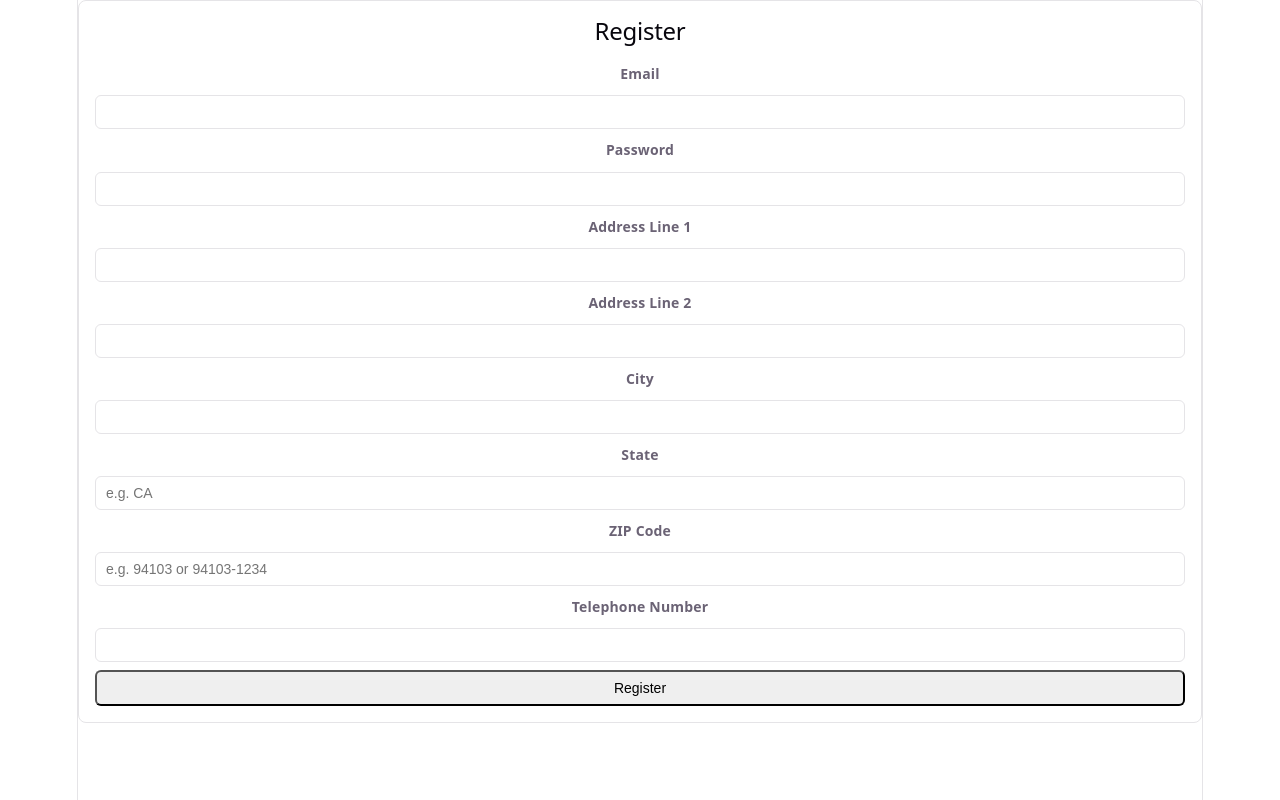
Scenario: RegisterForm › submits the payload and shows a success message
Type "a@b.com" into the field labelled "Email". click: point(640, 112)
box: [95, 95, 1185, 129]
Type "password1" into the password field labelled "Password". click: point(640, 188)
box: [95, 172, 1185, 206]
Type "1 Elm St" into the field labelled "Address Line 1". click: point(640, 265)
box: [95, 248, 1185, 282]
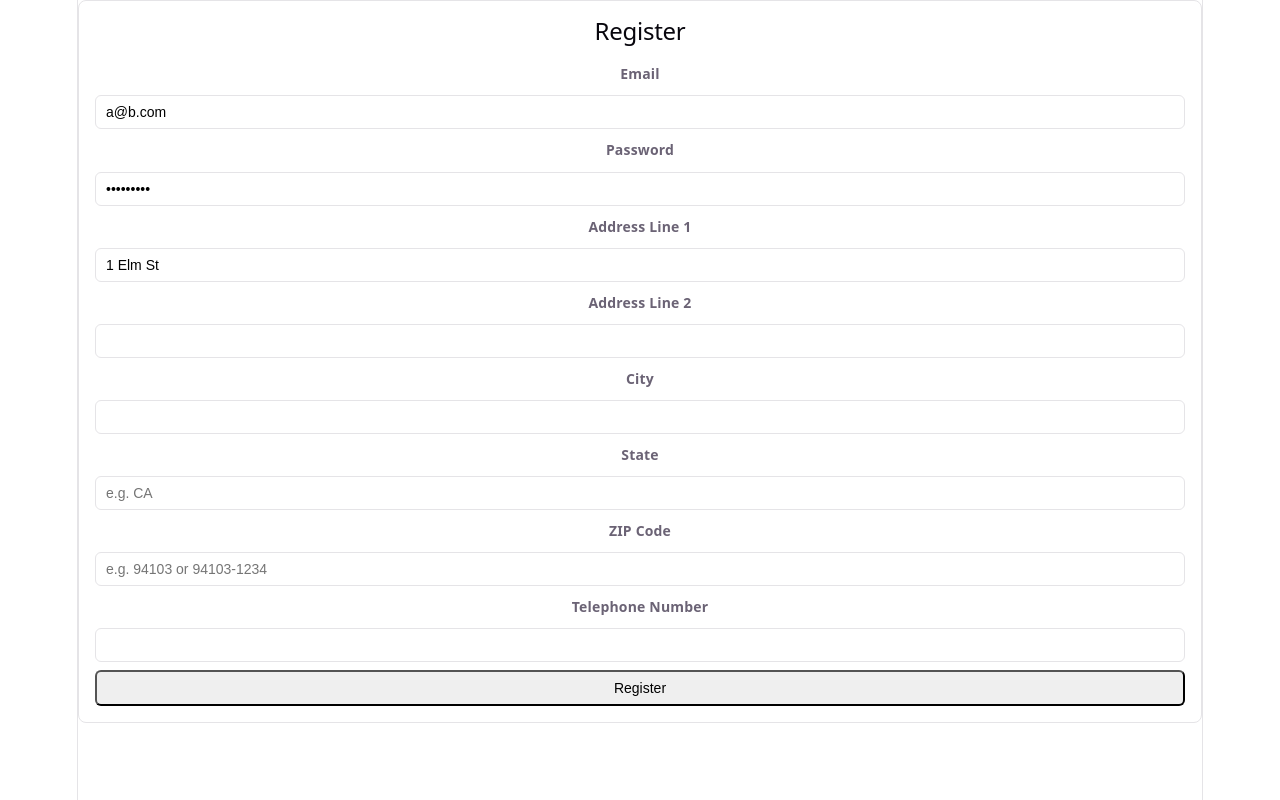
Type "Springfield" into the field labelled "City". click: point(640, 417)
box: [95, 400, 1185, 434]
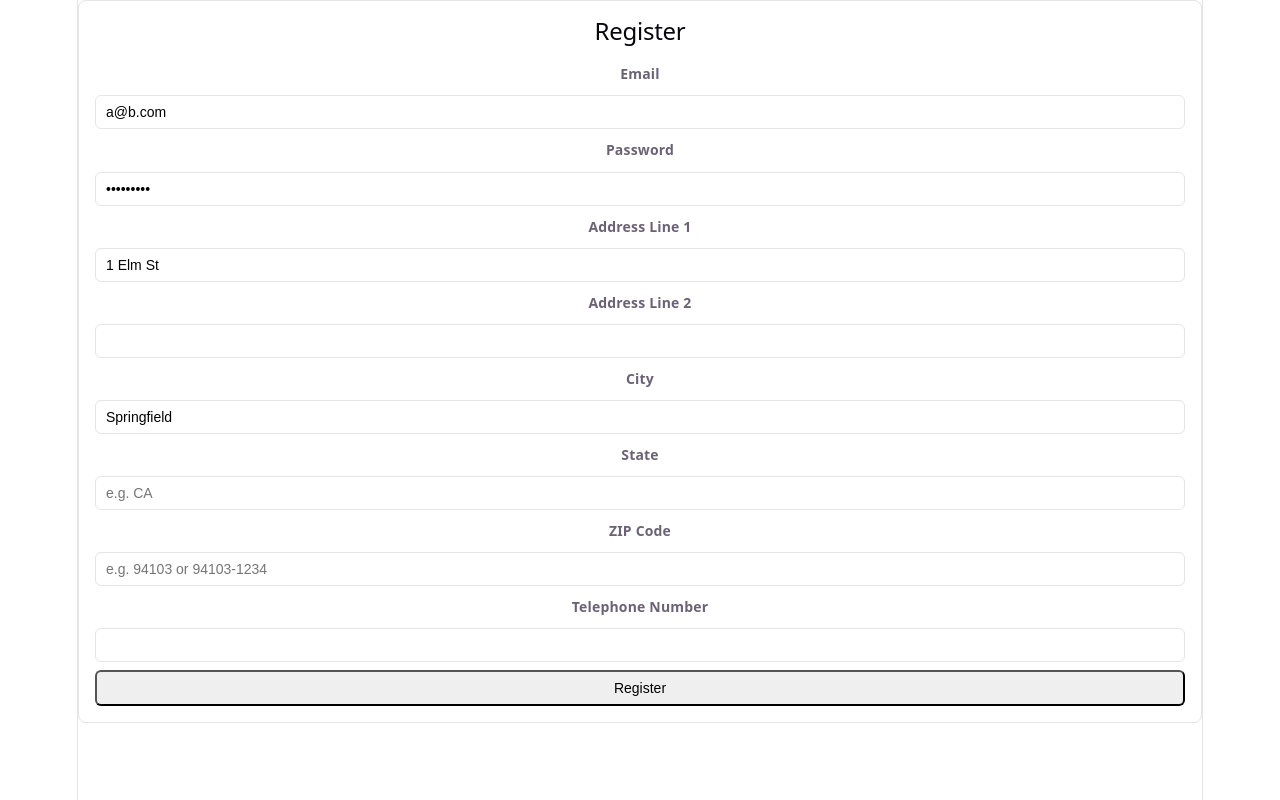
Type "IL" into the field labelled "State". click: point(640, 493)
box: [95, 476, 1185, 510]
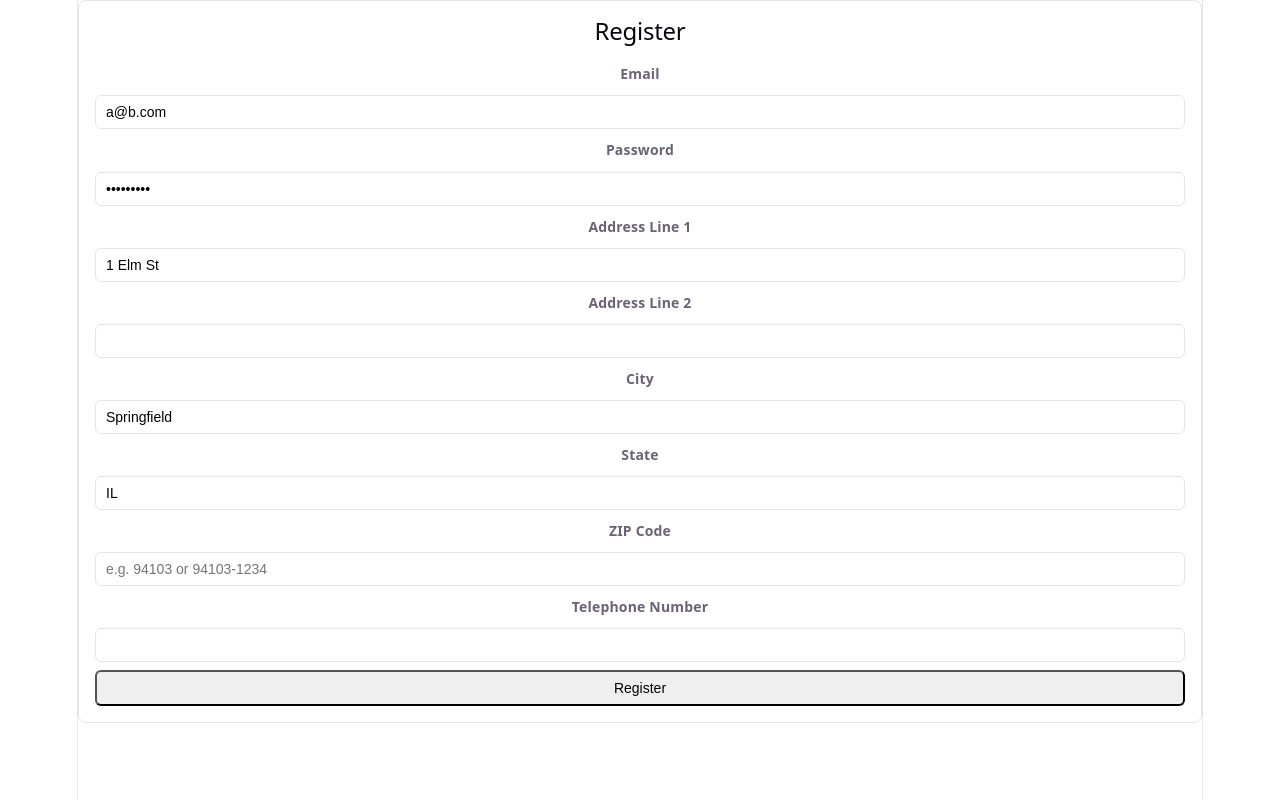
Type "62701" into the field labelled "ZIP Code". click: point(640, 569)
box: [95, 552, 1185, 586]
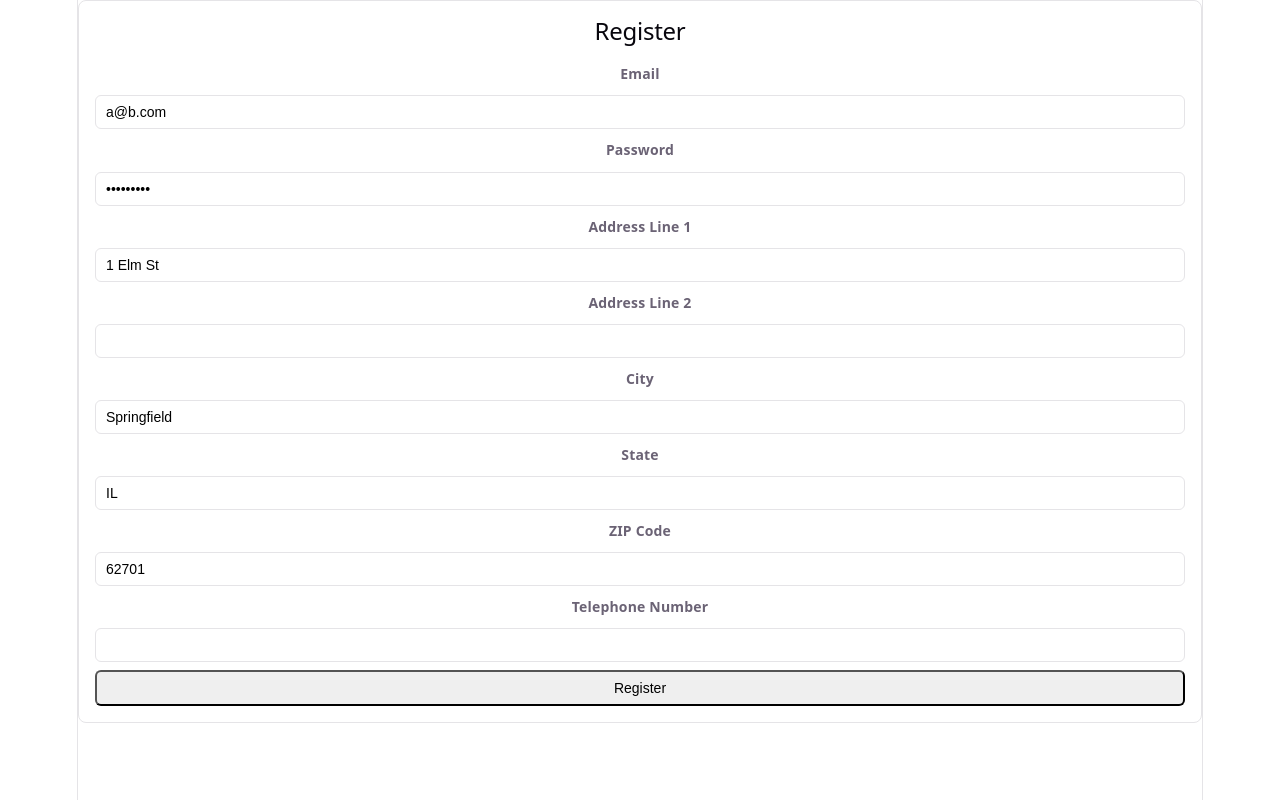
Type "555-0100" into the field labelled "Telephone Number". click: point(640, 645)
box: [95, 628, 1185, 662]
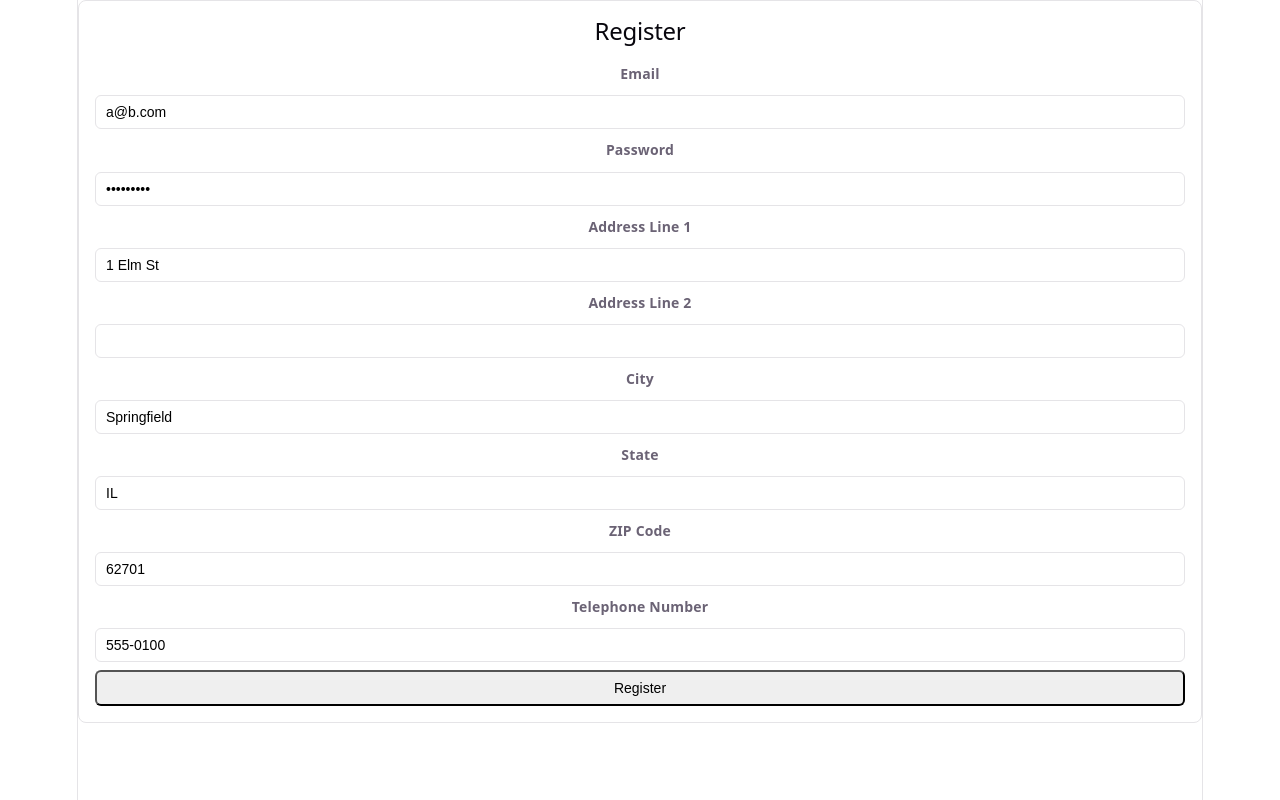
Click the button "Register". click: point(640, 688)
box: [95, 670, 1185, 706]
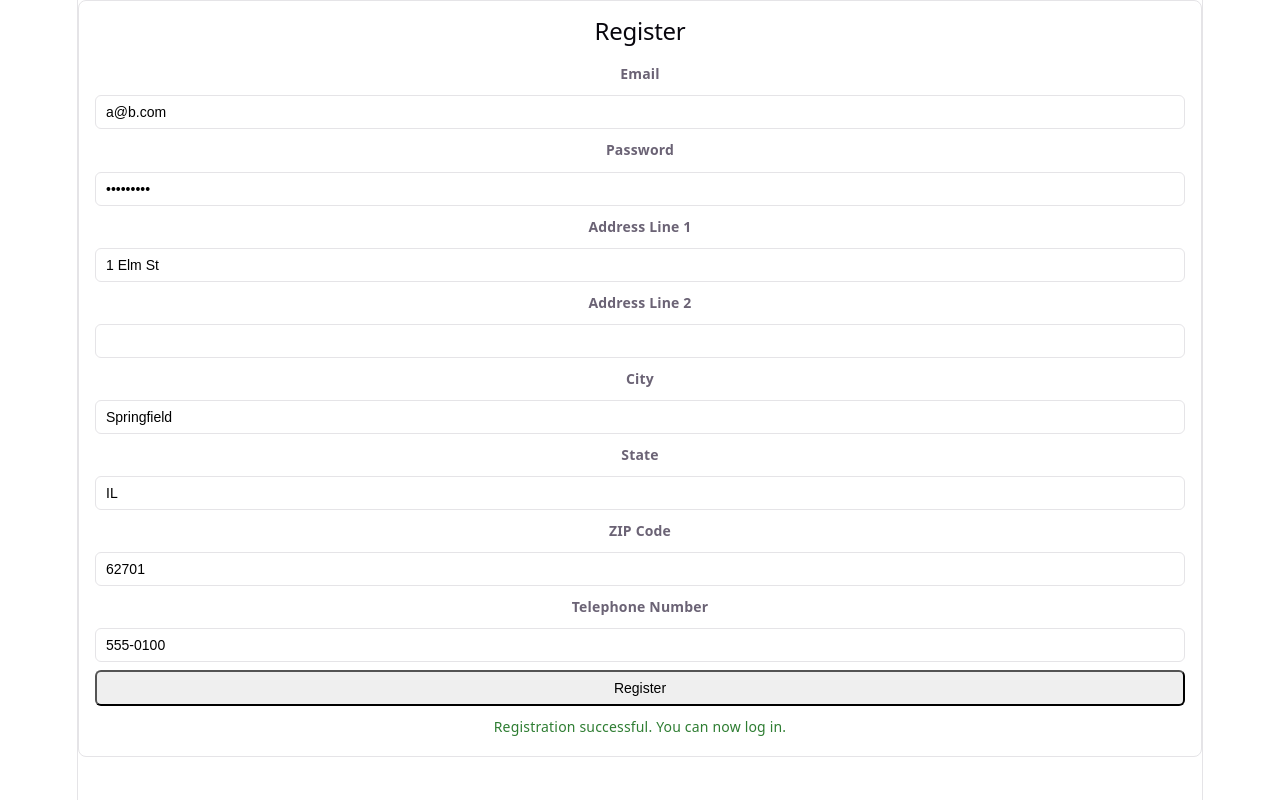
Check: the message "Registration successful. You can now log in." is shown, box [494, 717, 786, 736]
